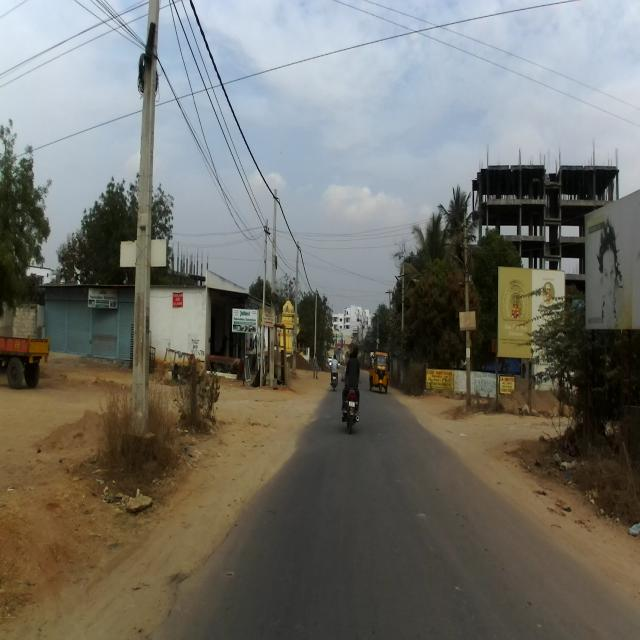electric pole ahead at: (131, 0, 164, 453)
motorcycle ahead at: (339, 373, 368, 430)
